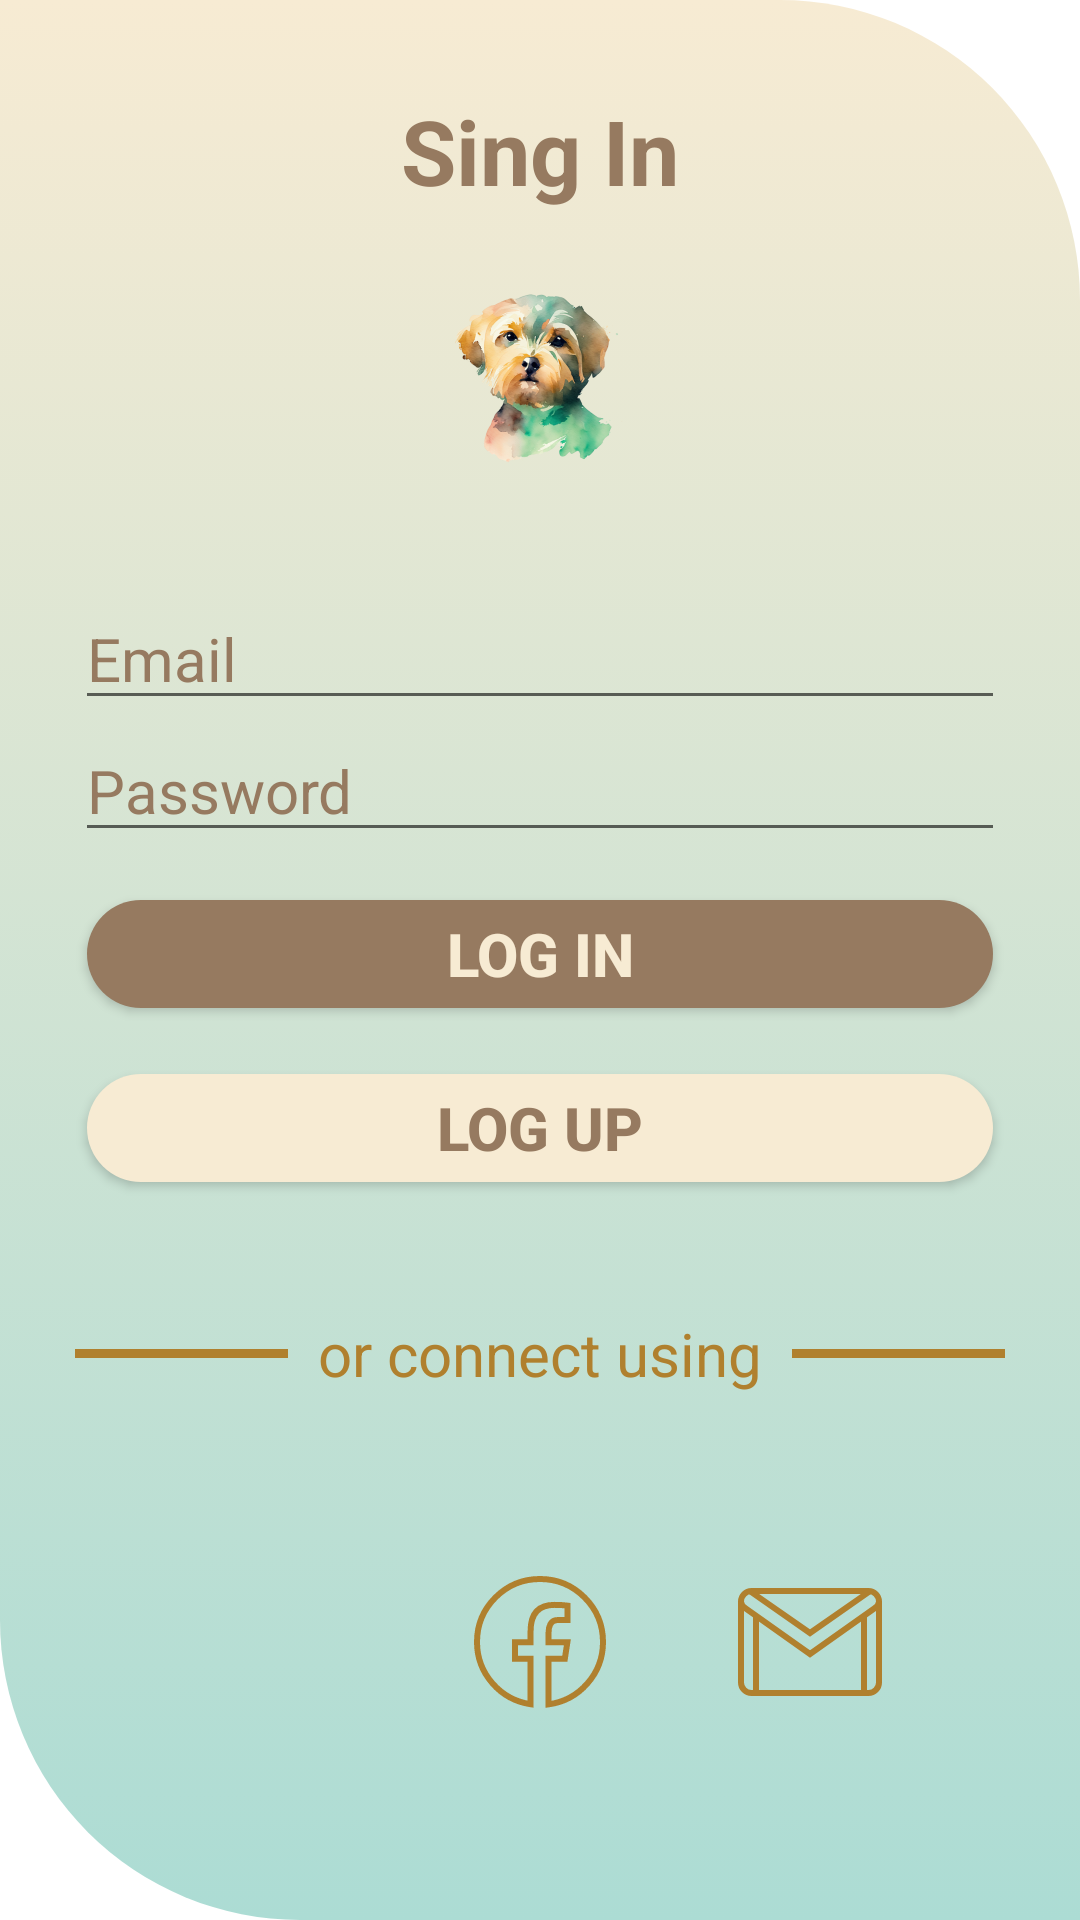

Icon bounding boxes for this 1080 x 1920 phone screenshot, format box=[x1, y1, x2, y2]:
gmail: box=[738, 1588, 882, 1696]
